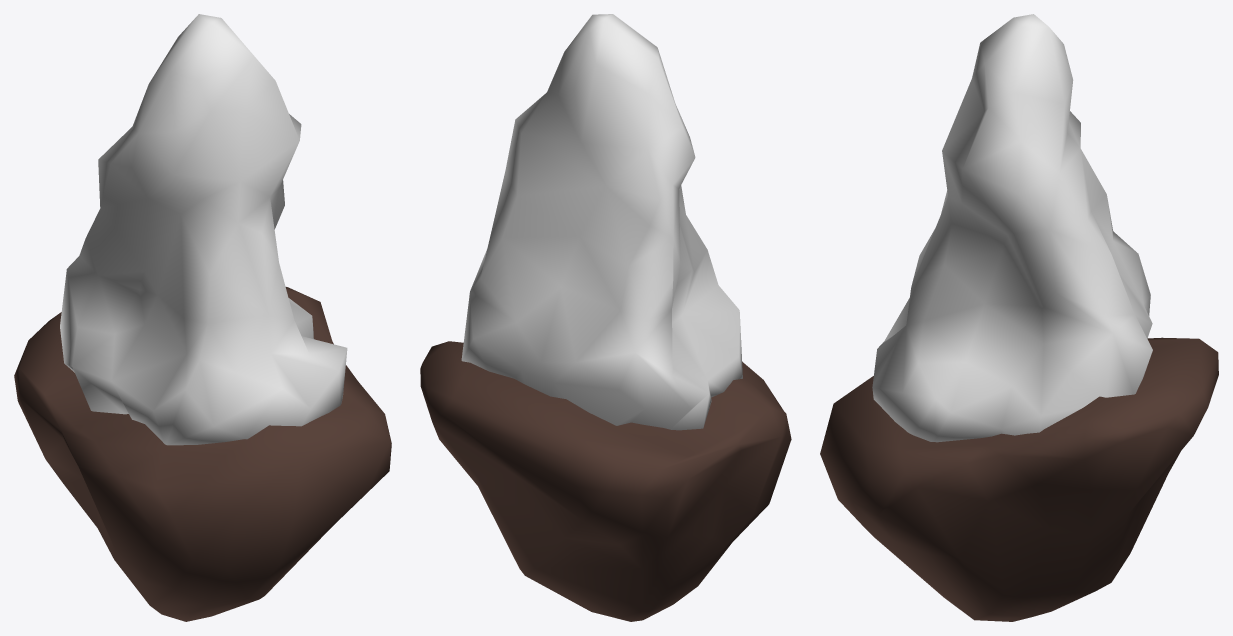
File: gemmi.fbx
3 renders of one model, left to right at view 1: azimuth 30°, elevation 25°; view 2: azimuth 150°, elevation 25°; view 3: azimuth 270°, elevation 25°, orthographic. The views are drawn at different scales.
Visible parts, largest first — view 1: Sphere, Cube; view 2: Sphere, Cube; view 3: Sphere, Cube.
Part boxes in pixels (x1,y1,x2,y2): Sphere: (60, 14, 347, 445); Cube: (14, 287, 391, 621); Sphere: (461, 14, 742, 430); Cube: (420, 341, 791, 621); Sphere: (872, 14, 1152, 442); Cube: (820, 337, 1218, 621).
Bounding box in the file's own units: 721 × 1384 × 819.
